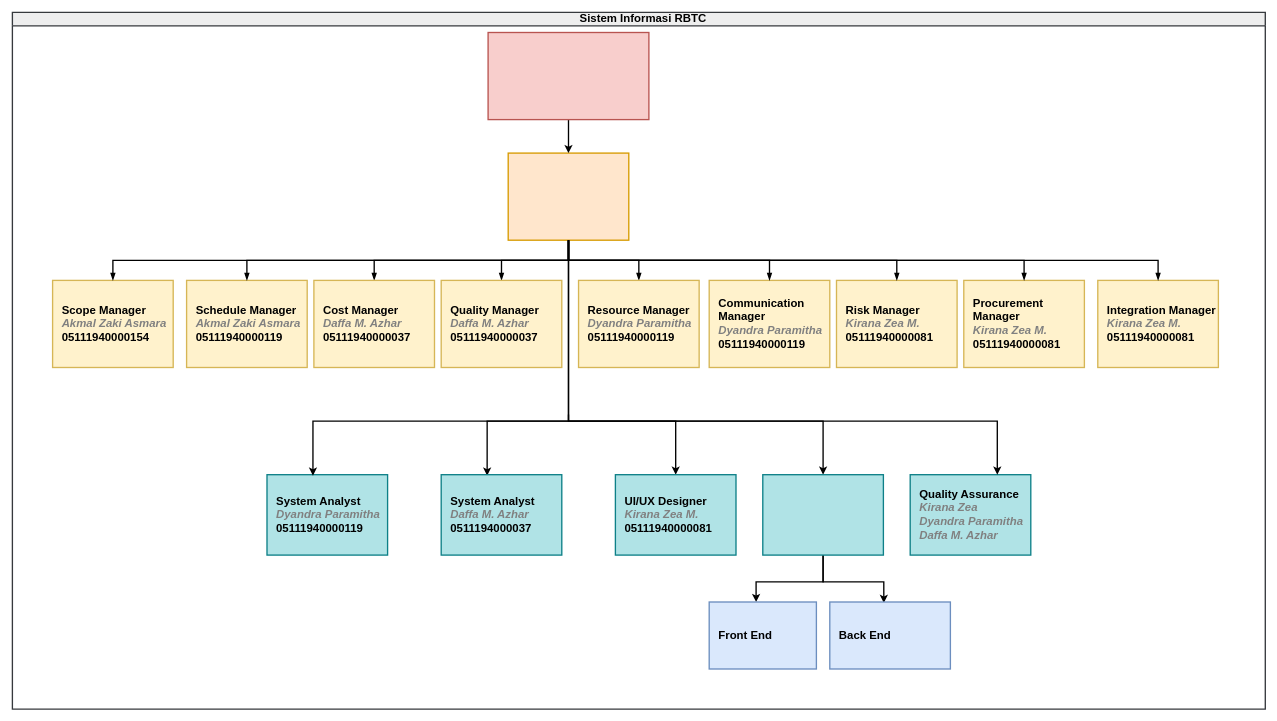
This 1277x721 diagram has some shape labels left out. The centre of each missing label's shape, as x and y in pixels:
"Programmer Akmal Zaki A 05111940000154" goes at point 823,514.
"Project Manager Dyandra Paramitha Daffa M. Azhar Kirana Zea M. Akmal Zaki A." goes at point 568,196.
"Project Office Manager & Project Review Group Sarwosri, S.Kom, M.T" goes at point 568,75.
